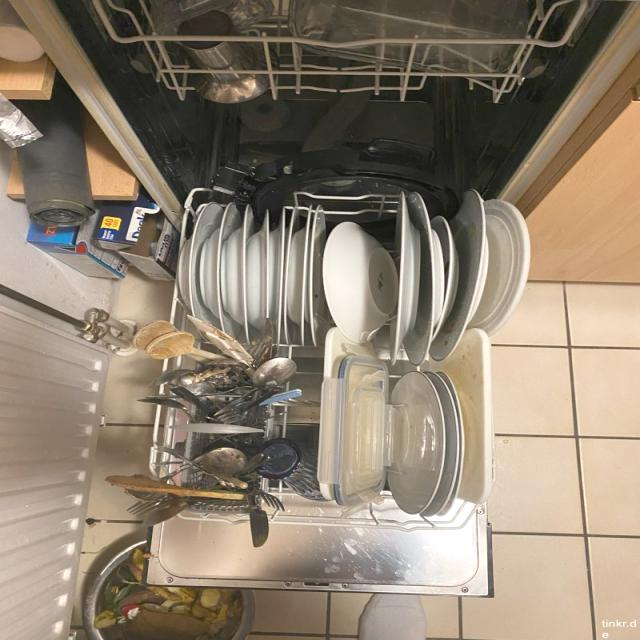clutery_bin: (151, 326, 282, 518)
